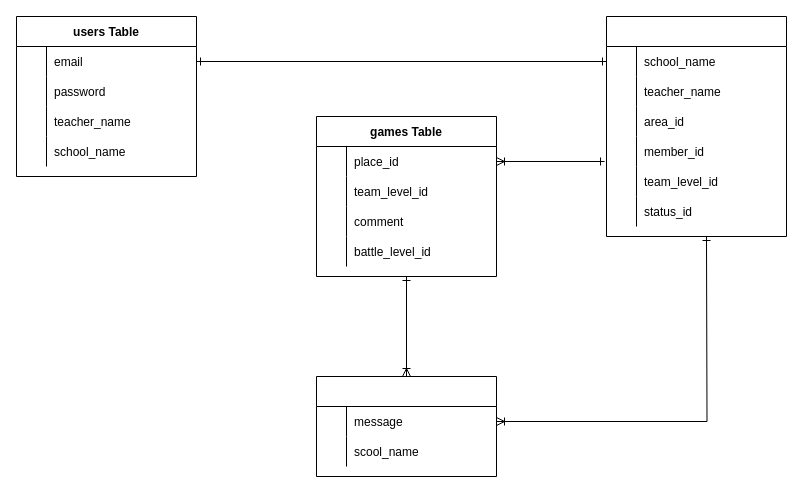
This 803x493 diagram has some shape labels left out. The box of each missing label's shape, as (x1, y1, x2, y2) in pixels:
messages Table: (316, 376, 496, 476)
teams Table: (606, 16, 786, 236)
